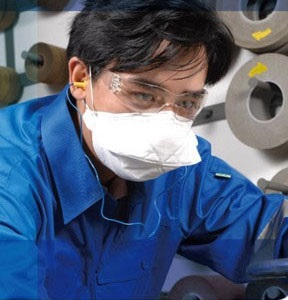face_mask: (92, 36, 204, 182)
